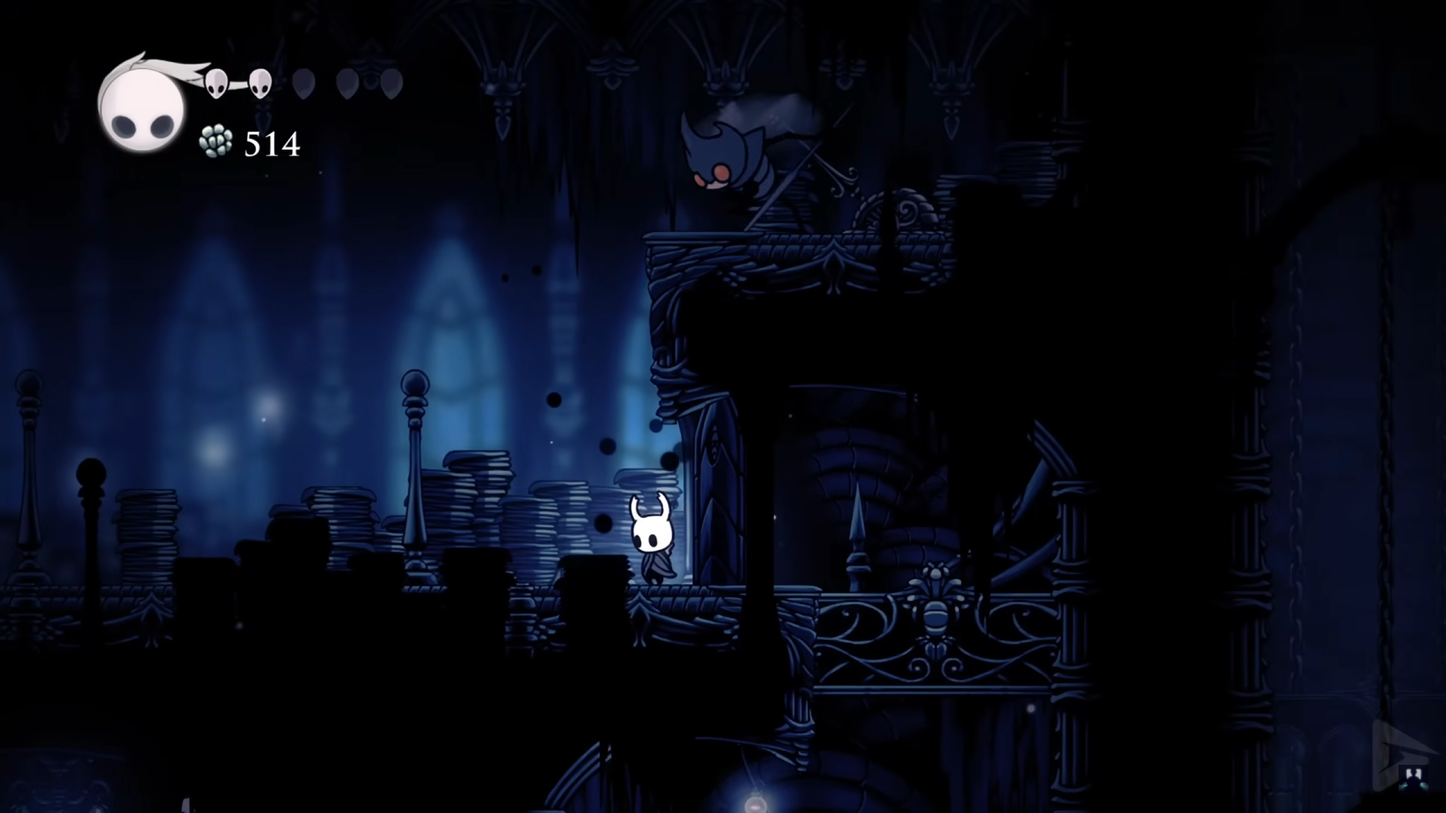HK: (628, 489, 679, 585)
